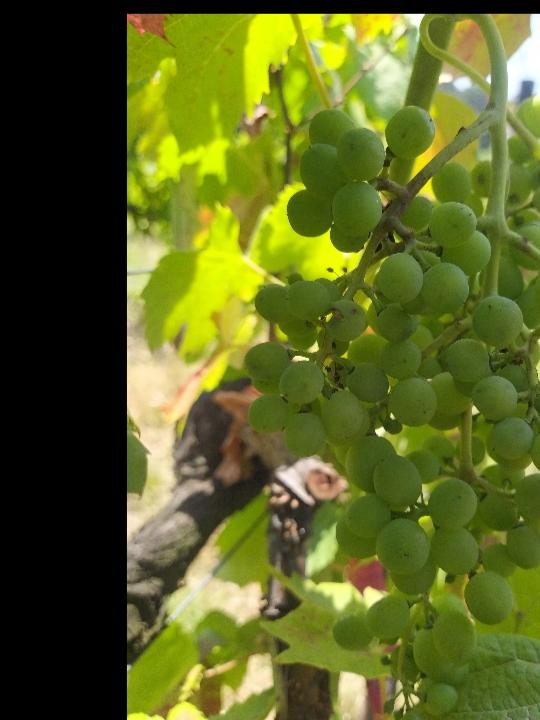grape: (243, 92, 540, 720)
